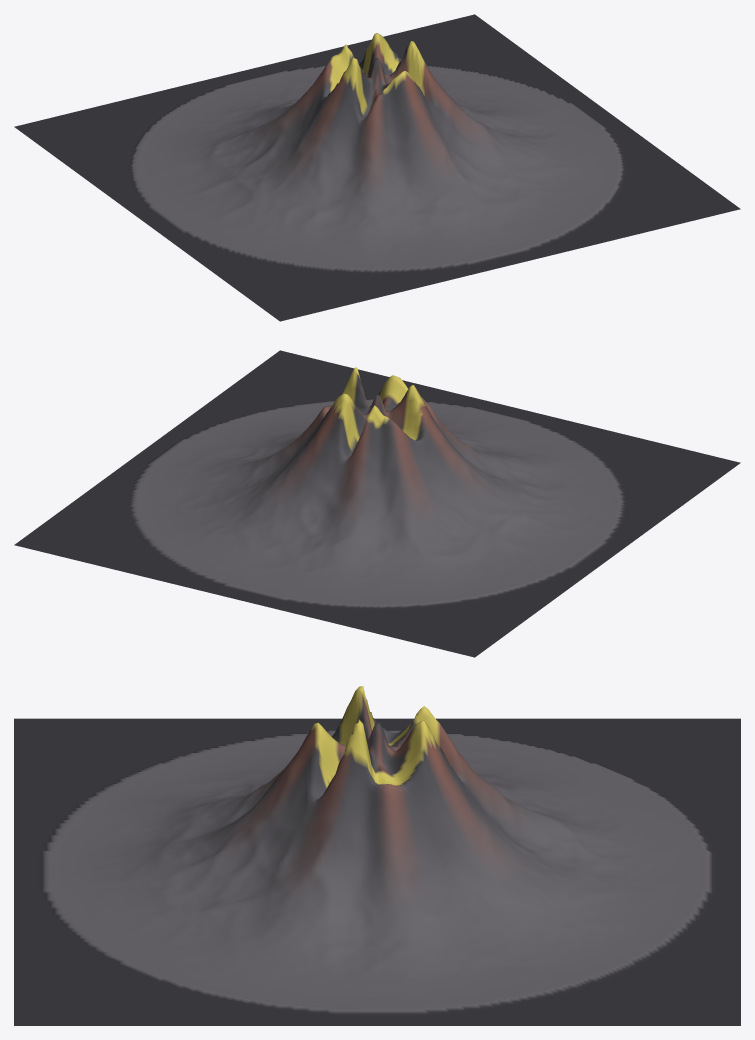
Rendered from Volcano_Mountain.fbx.
3 renders of one model, top to bottom at view 1: azimuth 30°, elevation 25°; view 2: azimuth 150°, elevation 25°; view 3: azimuth 270°, elevation 25°, orthographic. The views are drawn at different scales.
Visible parts, largest first — view 1: Volcano_Mountain; view 2: Volcano_Mountain; view 3: Volcano_Mountain.
Boxes of the visible parts, bbox=[...] form: Volcano_Mountain: bbox=[14, 14, 740, 321]; Volcano_Mountain: bbox=[14, 350, 740, 657]; Volcano_Mountain: bbox=[14, 686, 740, 1025].
Size of the model in its own units: 2000 by 519 by 2000.
